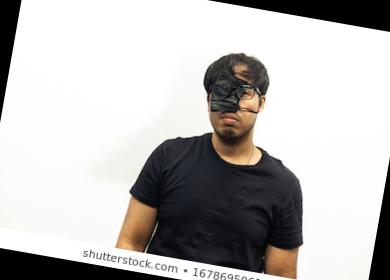mask_weared_incorrect: (205, 74, 264, 145)
